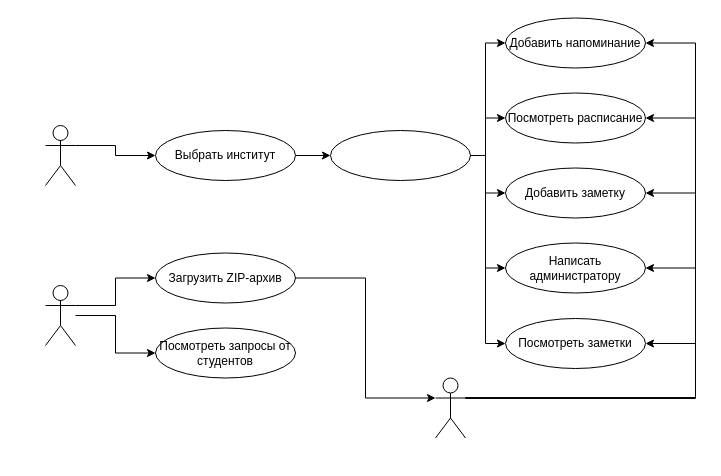
This 721x476 diagram has some shape labels left out. The shapes that lost their labels are listed below. From the top down, each one's centre as x and y in pixels, then its label:
At point (60, 155): "Студент".
At point (400, 155): "Выбрать группу".
At point (60, 315): "Администратор".
At point (450, 407): "Система/БД".
